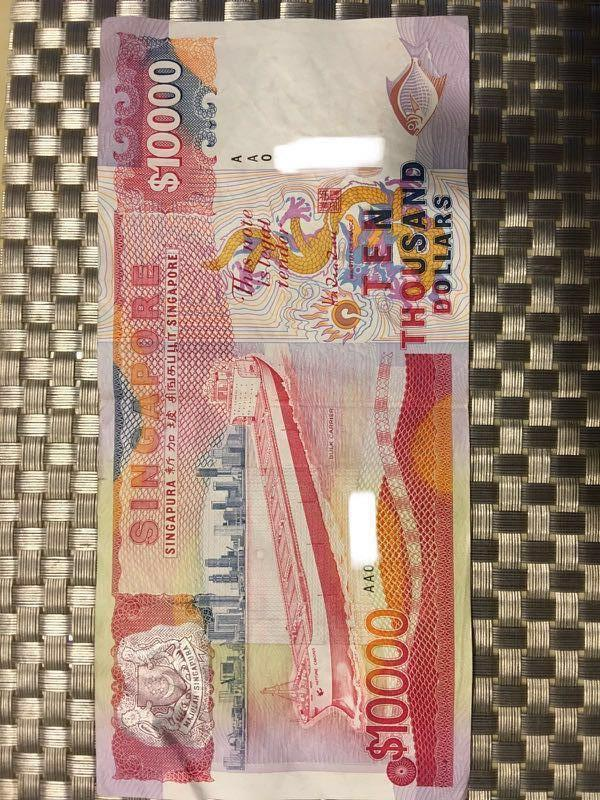10000SingaporeDollar: (104, 19, 466, 794)
